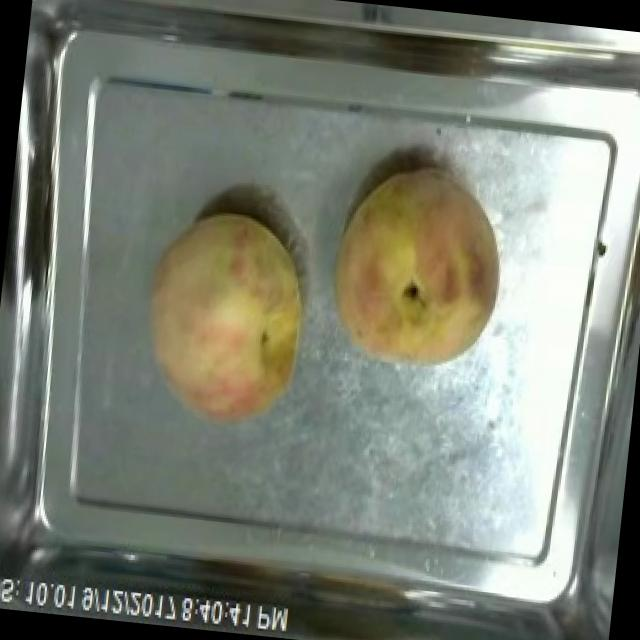Fruit: (313, 154, 520, 386), (128, 197, 323, 440)
